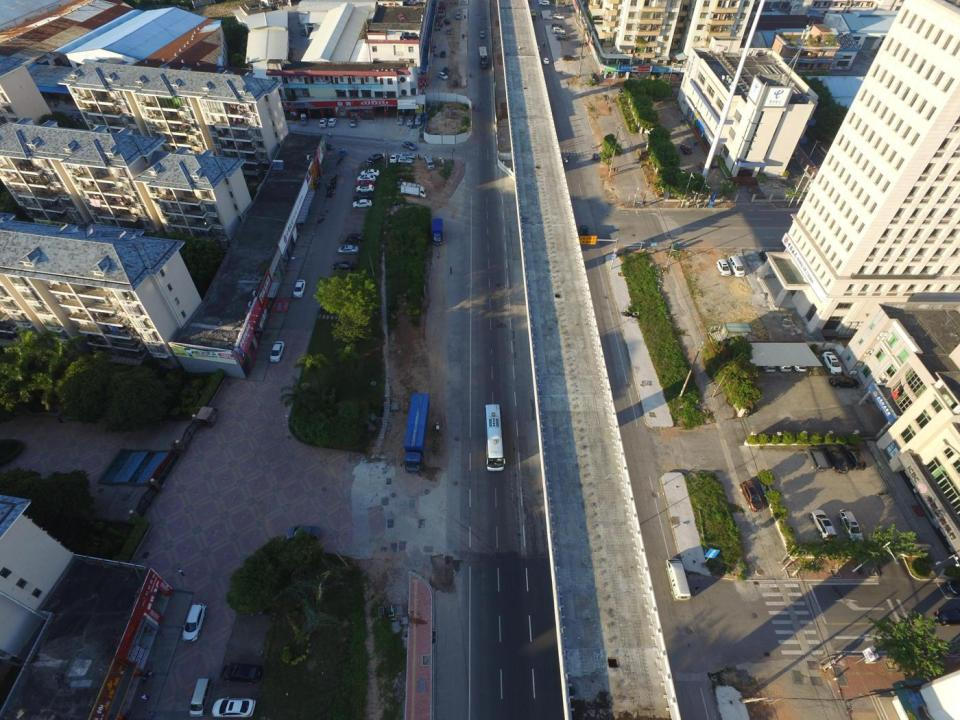bus: (484, 404, 505, 471)
car: (180, 602, 208, 643), (210, 695, 257, 719), (221, 661, 262, 684), (809, 508, 837, 541), (838, 508, 863, 543), (739, 480, 764, 512), (842, 441, 867, 471), (826, 443, 848, 474), (805, 444, 829, 472), (286, 524, 323, 542), (933, 606, 960, 626), (822, 350, 843, 374), (829, 376, 860, 389), (779, 346, 793, 373), (794, 348, 807, 373), (270, 340, 284, 363), (292, 278, 307, 299), (762, 350, 775, 372), (717, 259, 731, 277), (332, 260, 354, 271), (337, 245, 359, 256), (365, 153, 384, 164), (345, 233, 362, 244), (352, 199, 372, 208), (352, 192, 371, 201), (578, 223, 589, 238), (354, 180, 374, 188), (680, 143, 693, 155), (707, 155, 719, 168), (356, 175, 376, 182), (360, 169, 380, 176), (398, 152, 415, 160), (402, 141, 417, 150), (356, 185, 375, 192), (698, 160, 708, 173), (398, 156, 413, 164), (318, 117, 328, 128), (405, 115, 414, 126), (415, 112, 422, 126), (643, 128, 657, 135), (396, 114, 404, 126), (552, 26, 564, 34), (327, 117, 337, 126), (348, 116, 356, 127), (437, 72, 448, 80), (552, 13, 564, 20), (389, 154, 398, 163), (442, 65, 450, 74), (552, 22, 562, 29), (558, 33, 571, 38), (542, 57, 549, 65), (556, 36, 567, 41), (479, 30, 485, 39), (454, 12, 461, 19), (442, 52, 447, 58)
truck: (403, 393, 427, 474), (400, 180, 427, 199), (432, 217, 444, 247), (478, 46, 488, 69)
van: (665, 558, 691, 603), (189, 677, 213, 718), (728, 255, 745, 277), (947, 578, 960, 595), (423, 154, 435, 170), (299, 112, 307, 125)
